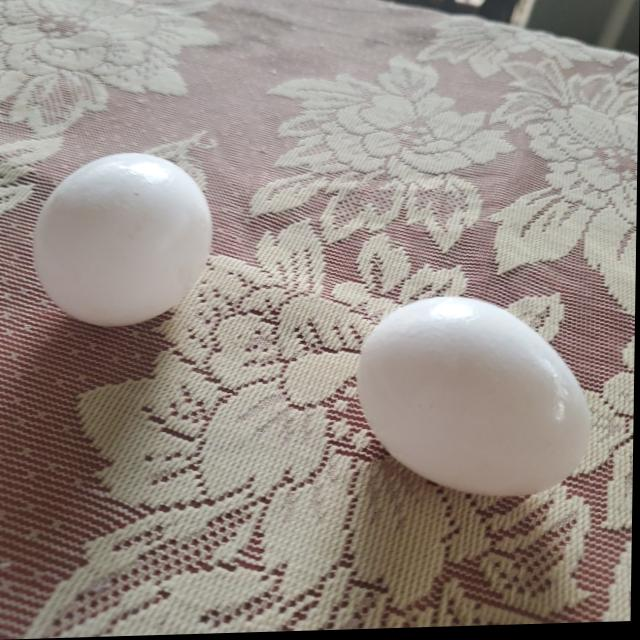egg: (355, 299, 588, 502), (35, 155, 214, 331)
